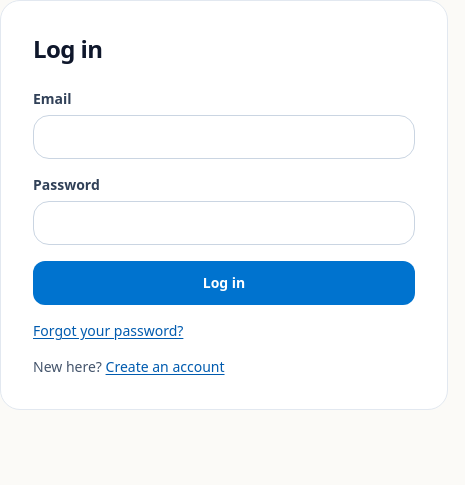
Test case: LoginPage › I-14/I-15 rate_limited: "Too many attempts." naming when to retry, from the Retry-After header (AC-15 supersedes "Try again in 2 minutes.")
This screenshot has width=465, height=485.
Type "alex@example.com" into the field labelled "Email" at (224, 137), box [33,115,415,159]
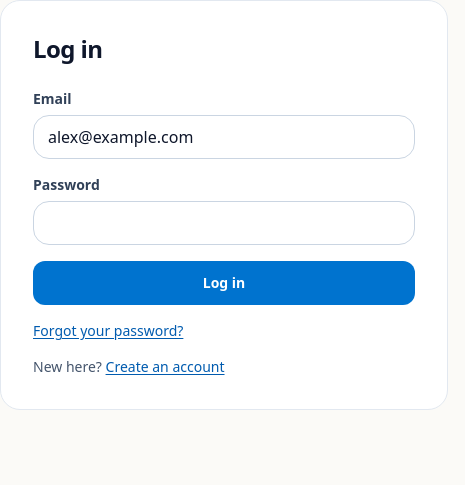
Type "a very long real password" into the password field labelled "Password" at (224, 223), box [33,201,415,245]
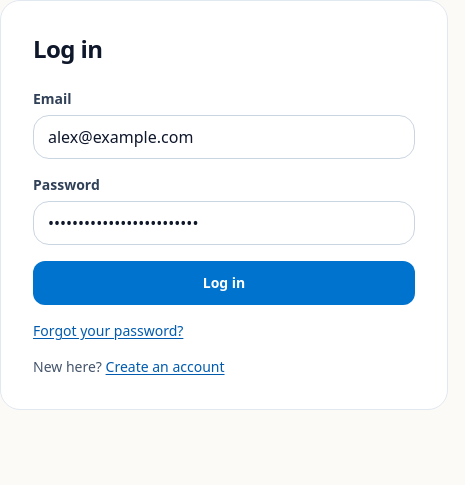
Click the button "Log in" at (224, 283), box [33,261,415,305]
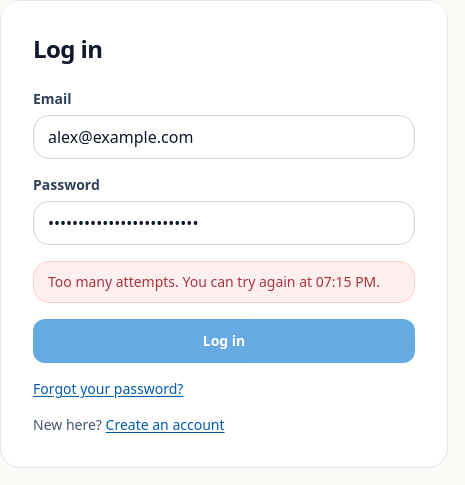
Now the message reads "Too many attempts. You can try again at 07:15 PM.", box [48,272,380,291]
